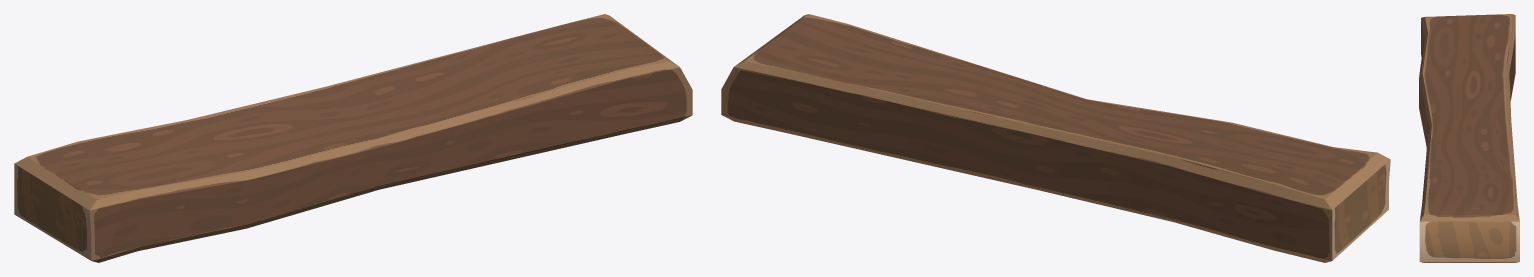
Rendered from Tablon1.fbx.
The picture shows the model from 3 angles, left to right: view 1: azimuth 30°, elevation 25°; view 2: azimuth 150°, elevation 25°; view 3: azimuth 270°, elevation 25°; orthographic projection. The views are drawn at different scales.
Visible parts, largest first — view 1: Tablon1; view 2: Tablon1; view 3: Tablon1.
Boxes of the visible parts, x1,y1,x2,y2 form: Tablon1: (14, 14, 692, 262); Tablon1: (721, 14, 1390, 262); Tablon1: (1419, 14, 1519, 262).
Bounding box in the file's own units: 1.92 × 0.2001 × 0.3881.
